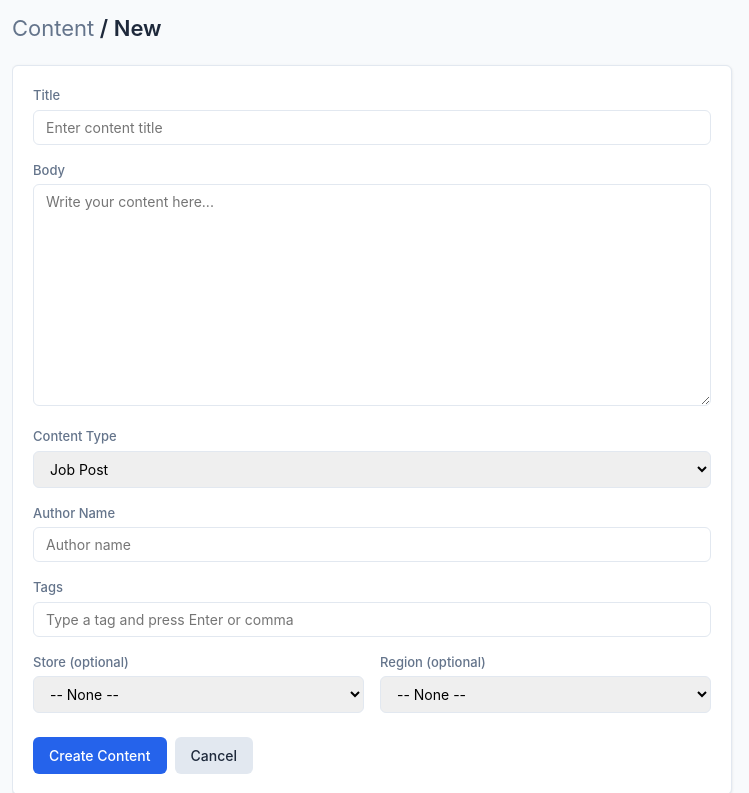
Test case: ContentCreatePage — behavior tests › shows validation error when body is empty on submit
# Fill title but leave body empty
Type "My Title" into the field with placeholder "Enter content title".
click(372, 127); type("My Title")  # box [33, 110, 711, 144]
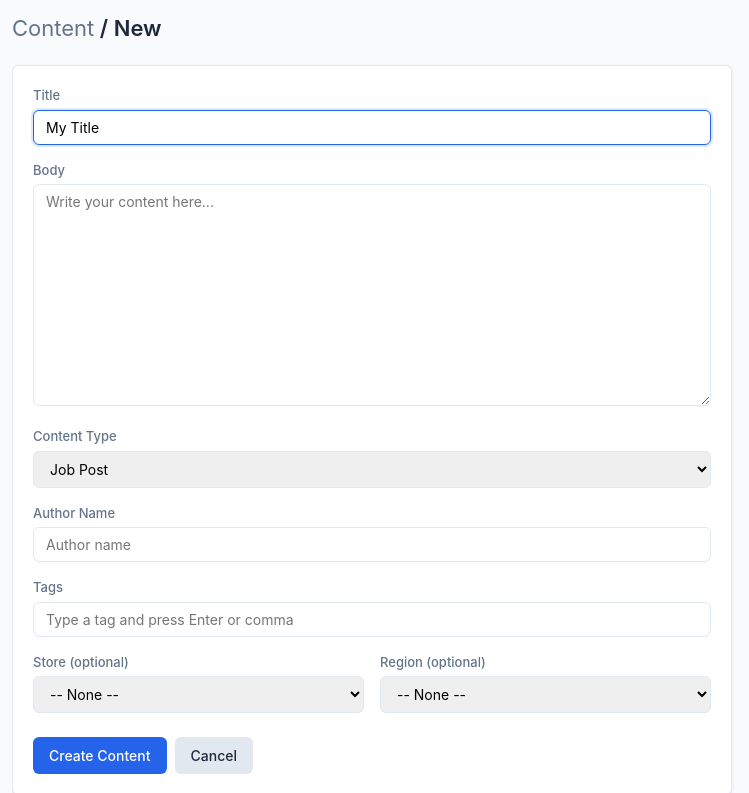
Click the button "Create Content".
click(100, 756)  # box [33, 737, 166, 774]
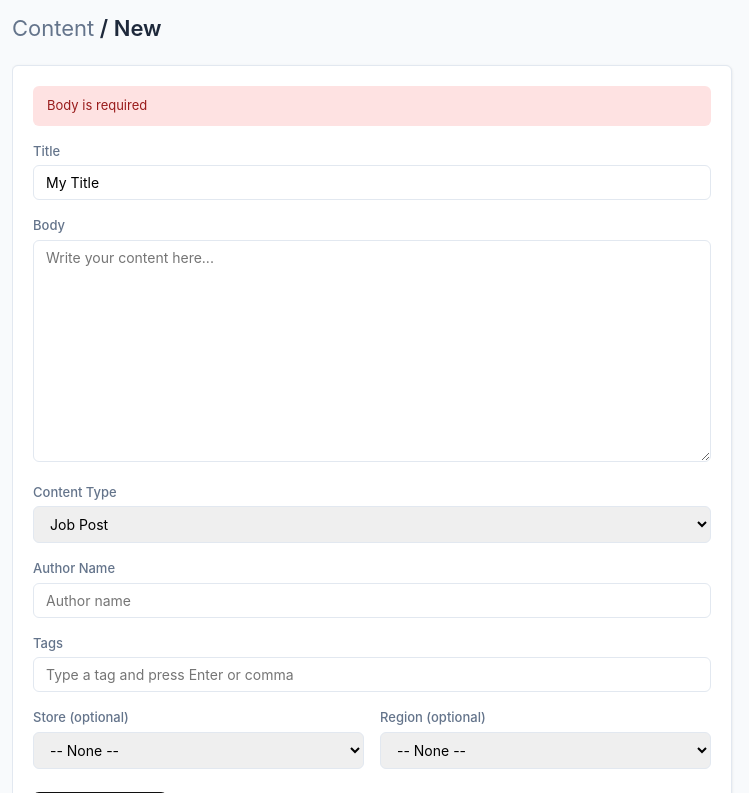
Expected: the text "Body is required" is shown, [33, 86, 711, 126]
